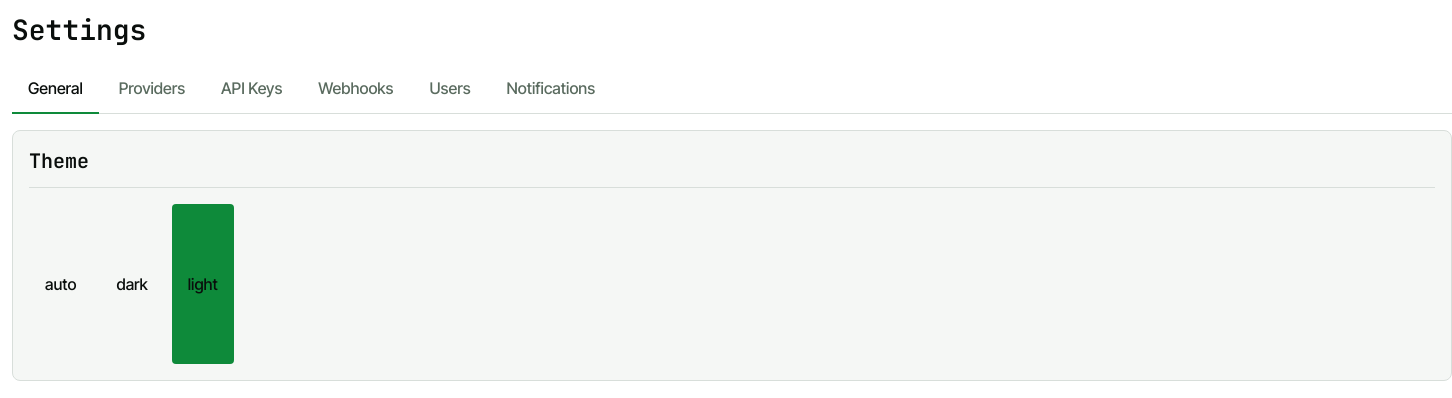
it: Settings › renders the secrets panel on the API Keys tab
This screenshot has width=1452, height=398.
Click the tab "API Keys".
click(252, 89)  # box [205,64,298,114]
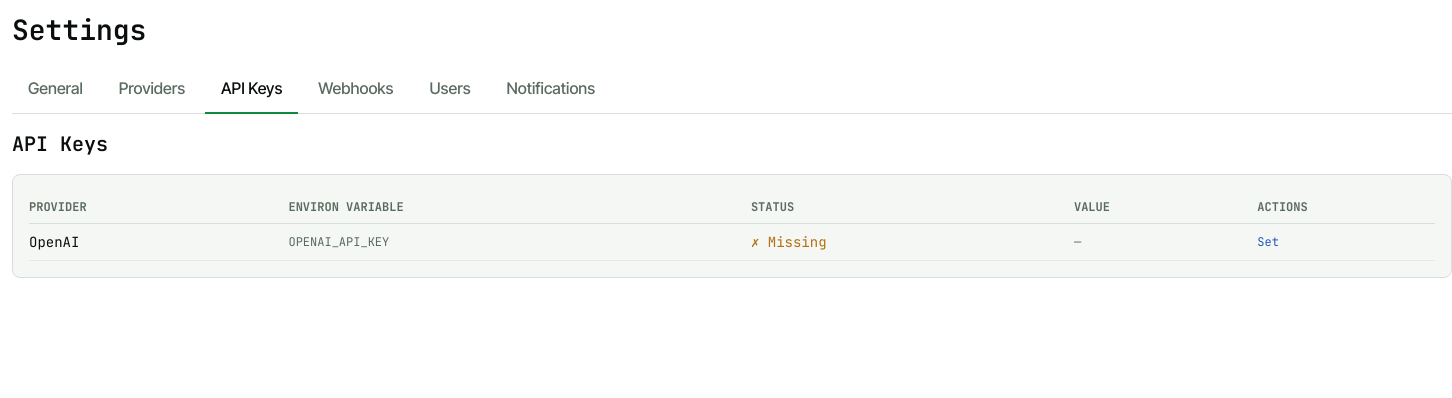
Check: the text "OPENAI_API_KEY" is shown, box [288,224,751,260]
Check: the text "✗ Missing" is shown, box [751,233,826,251]
